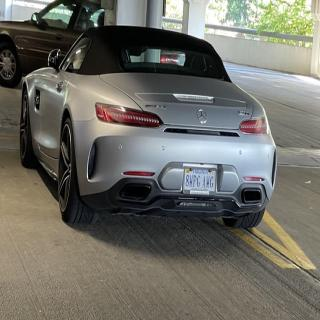license: (184, 168, 218, 197)
